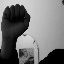a: (1, 4, 31, 46)
